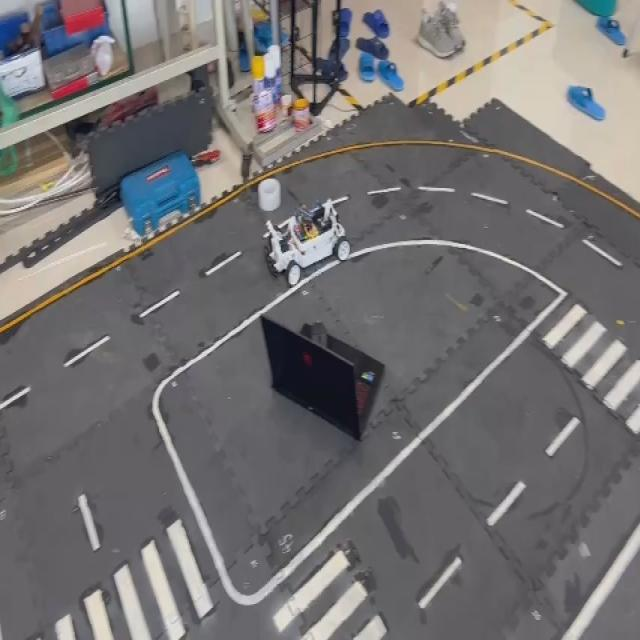SiCo-CAR: (262, 195, 351, 286)
